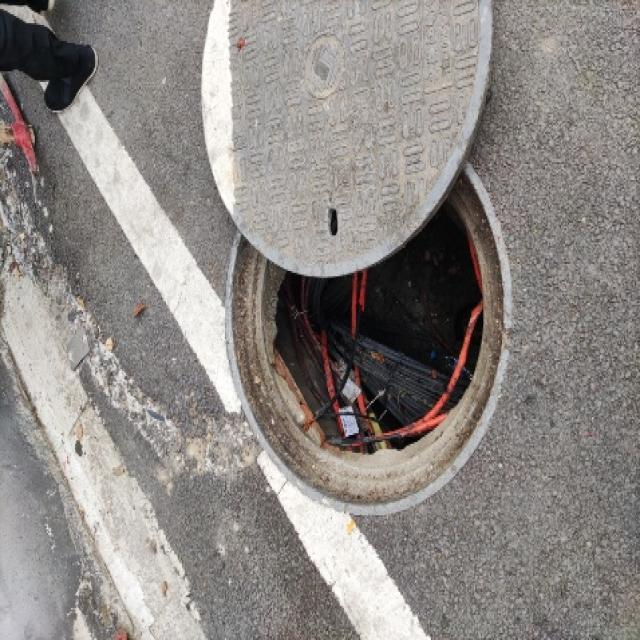Faulty: (180, 0, 546, 531)
